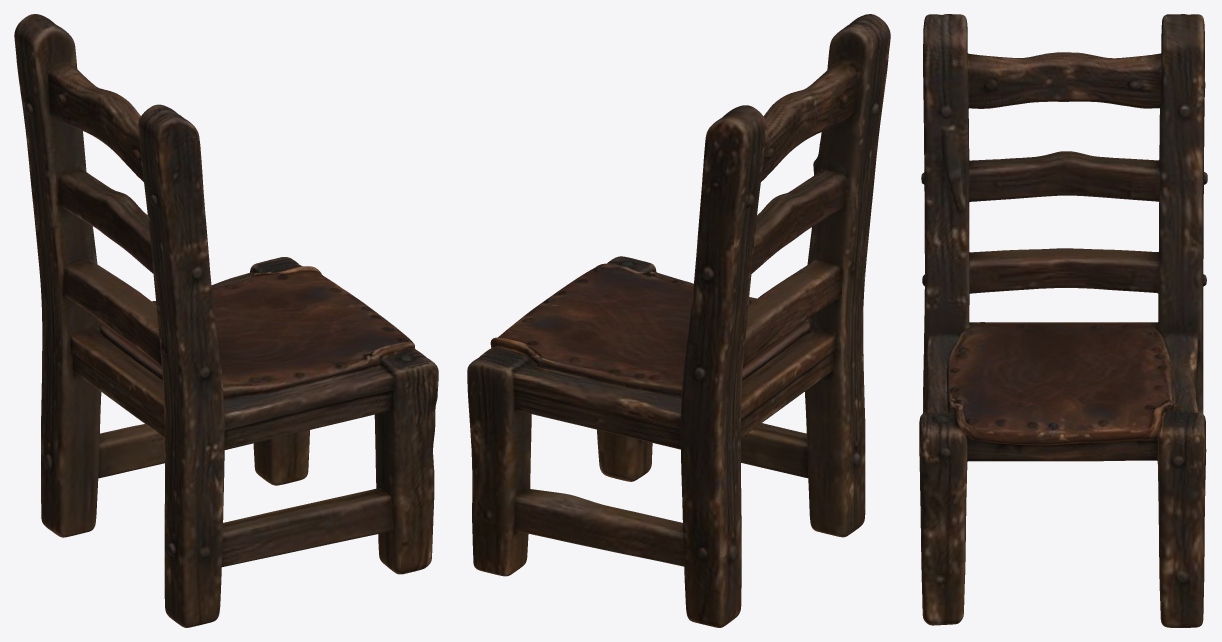
The model's file is 带椅背方椅子.glb.
The picture shows the model from 3 angles, left to right: view 1: azimuth 30°, elevation 25°; view 2: azimuth 150°, elevation 25°; view 3: azimuth 270°, elevation 25°; orthographic projection. The views are drawn at different scales.
Visible parts, largest first — view 1: tripo_node_26e0d5a3-b424-46fd-9aae-73ab01aef6b7; view 2: tripo_node_26e0d5a3-b424-46fd-9aae-73ab01aef6b7; view 3: tripo_node_26e0d5a3-b424-46fd-9aae-73ab01aef6b7.
Part boxes in pixels (<box>): tripo_node_26e0d5a3-b424-46fd-9aae-73ab01aef6b7: <box>14,14,438,627</box>; tripo_node_26e0d5a3-b424-46fd-9aae-73ab01aef6b7: <box>467,14,890,627</box>; tripo_node_26e0d5a3-b424-46fd-9aae-73ab01aef6b7: <box>919,14,1207,627</box>.
Size of the model in its own units: 0.5789 by 0.9999 by 0.5297.
1 material, 1 textured.
